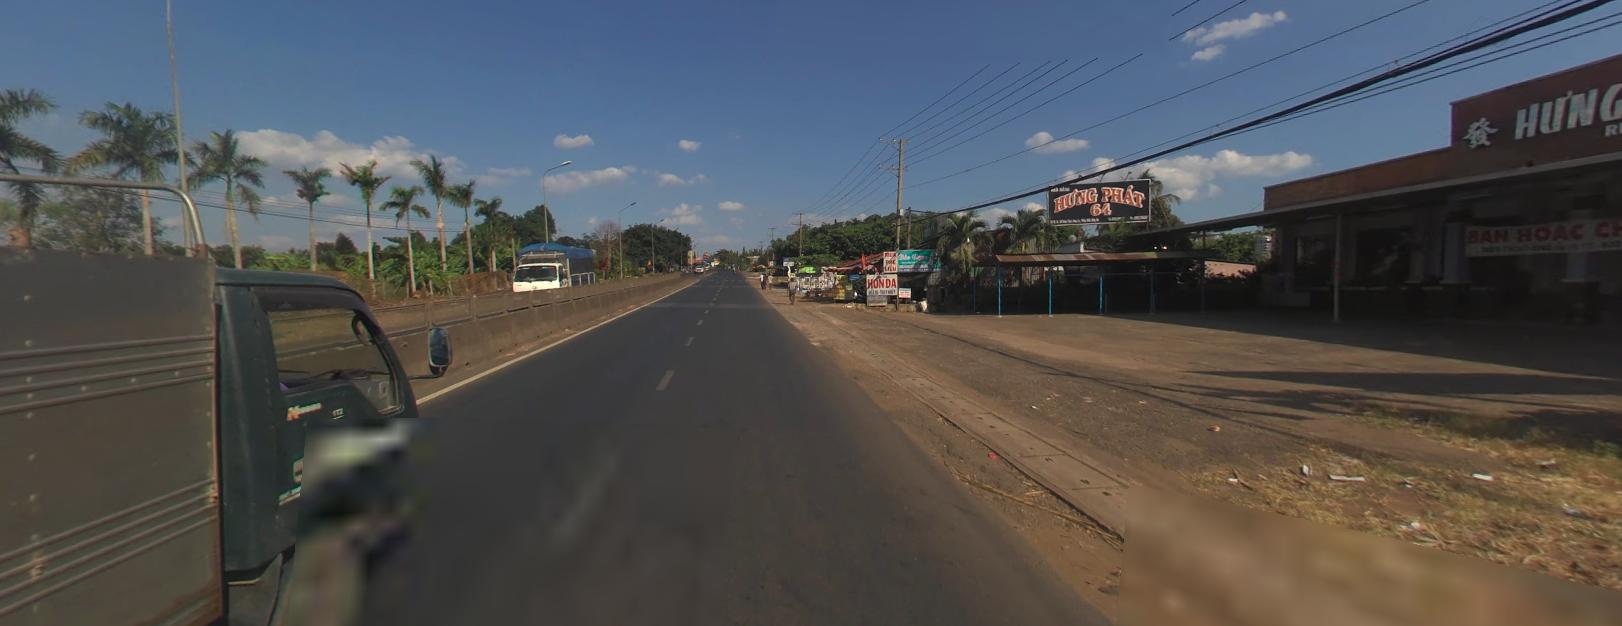Cam nguoc chieu: (702, 253, 707, 257)
Hieu lenh: (702, 258, 708, 262)
